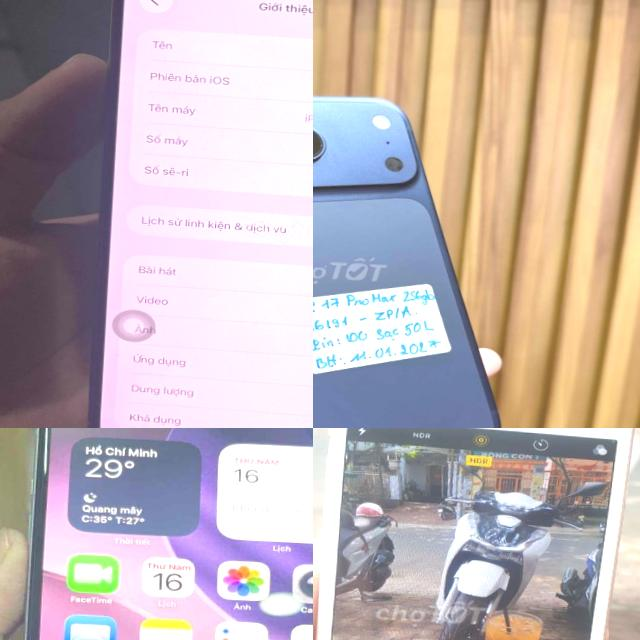gen_14: (83, 0, 313, 428)
gen_15: (0, 428, 313, 640)
gen_17: (313, 79, 527, 428)
gen_6: (313, 428, 640, 640)
